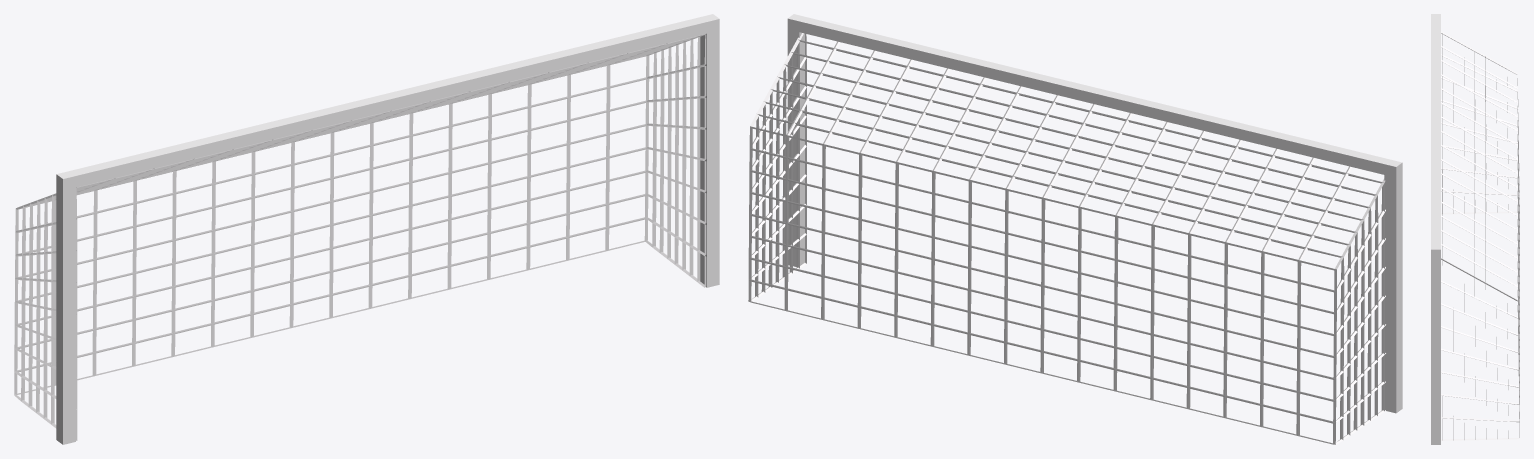
File: cageDeFoot.glb
The picture shows the model from 3 angles, left to right: view 1: azimuth 30°, elevation 25°; view 2: azimuth 150°, elevation 25°; view 3: azimuth 270°, elevation 25°; orthographic projection. The views are drawn at different scales.
Parts seen in each view (by area): view 1: Cube.013; view 2: Cube.013; view 3: Cube.013.
Boxes of the visible parts, <box> form: Cube.013: <box>14,14,719,444</box>; Cube.013: <box>748,14,1402,444</box>; Cube.013: <box>1431,14,1519,444</box>.
Bounding box in the file's own units: 11.81 × 4.57 × 1.88.
1 material, 1 textured.
